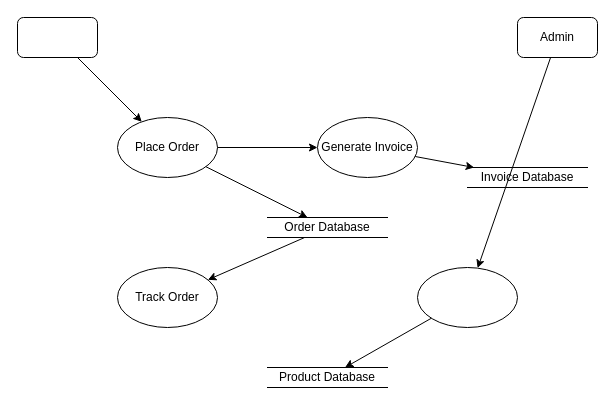
Image size: 615x405. Some labels were removed from this diagram. The centre of each missing label's shape, as x and y in pixels:
Customer: point (57, 37)
Manage Products: point (467, 297)
